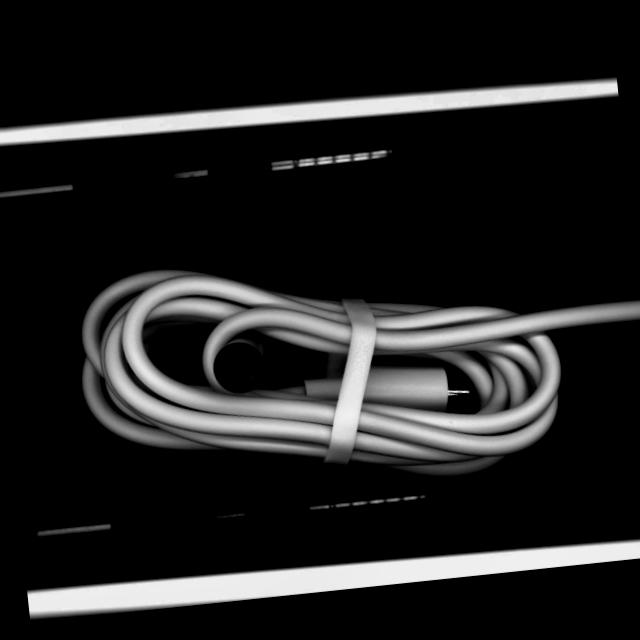Cable: (63, 215, 640, 520)
